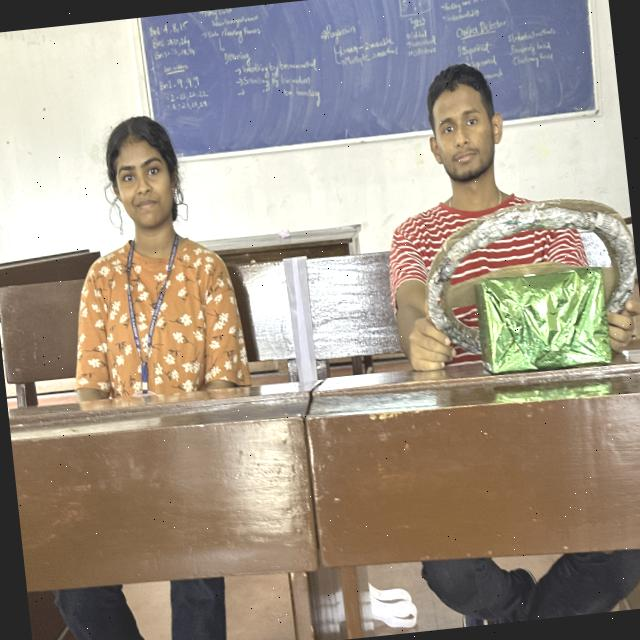no-seatbelt: (391, 182, 603, 357), (76, 233, 252, 404)
